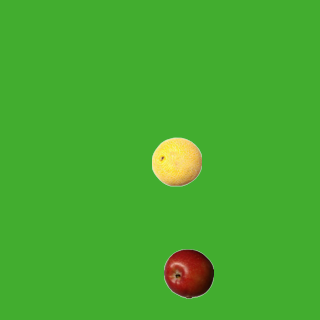Apple Braeburn: (163, 248, 213, 298)
Cantaloupe 1: (151, 136, 201, 186)
